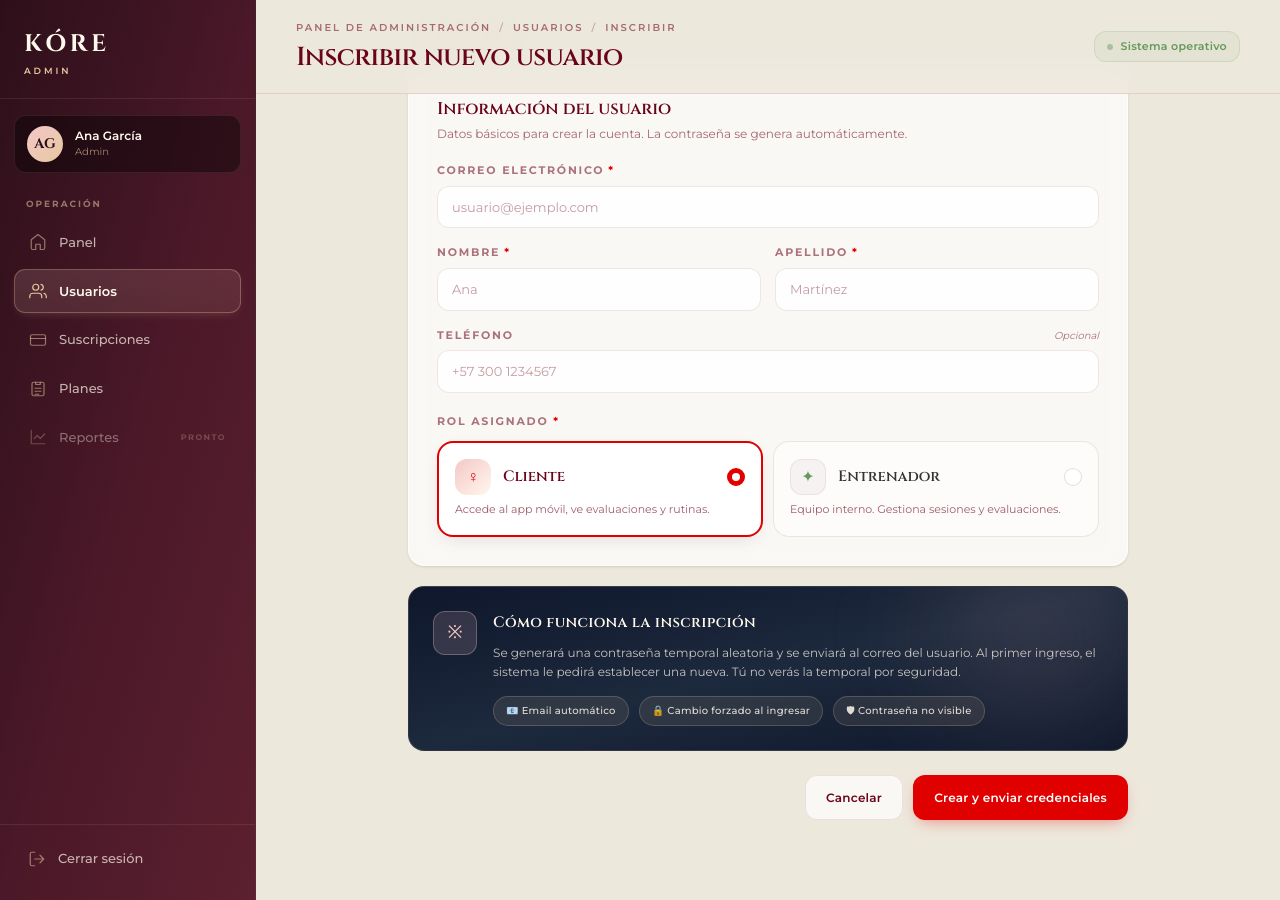
AdminUserNewPage › shows validation errors when submitting an empty form
The width and height of the screenshot is (1280, 900).
(page scrolled)
Step 1. Click the button "Crear y enviar credenciales" → click(1021, 797), box 913,775 -> 1128,820
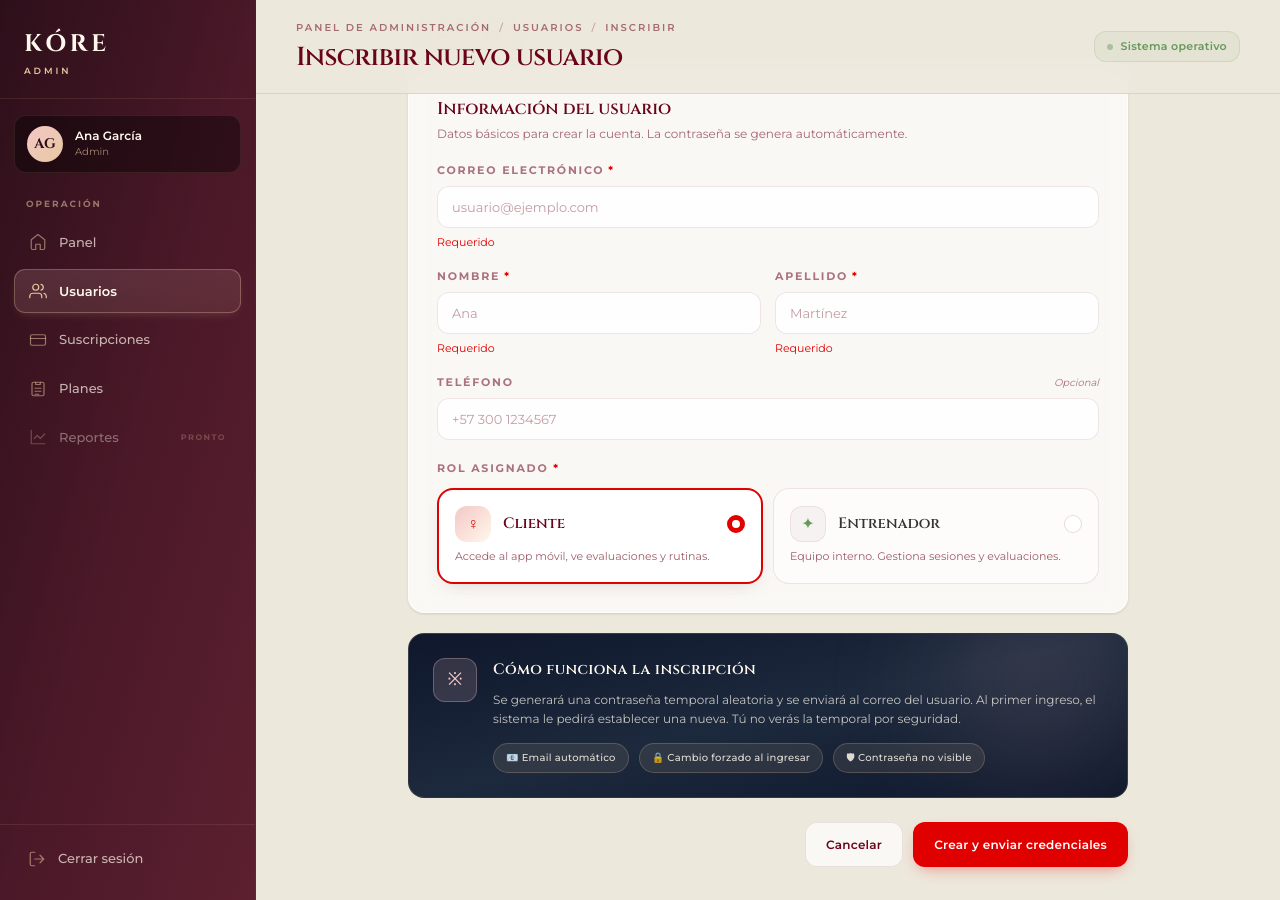
Check: the text "Requerido" is shown 3 times, box 437,235 -> 495,249; 437,341 -> 495,355; 775,341 -> 833,355
